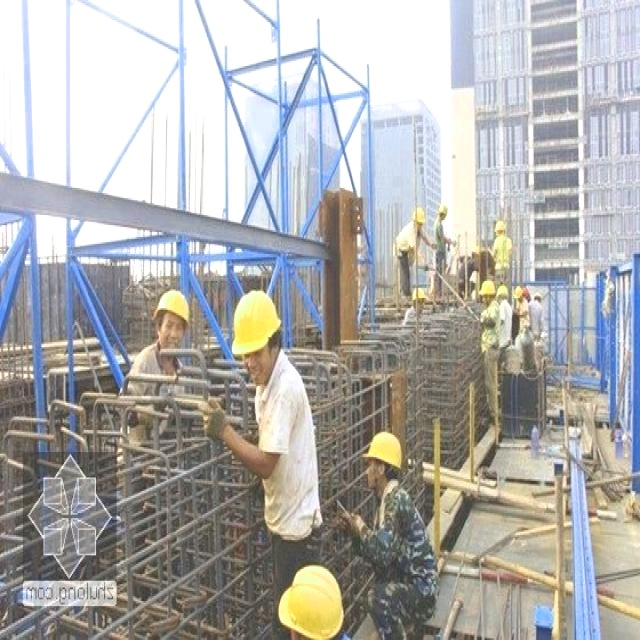Con_Casco: (231, 290, 280, 372), (361, 429, 401, 490)
Sin_Chaleco: (255, 372, 319, 534)
